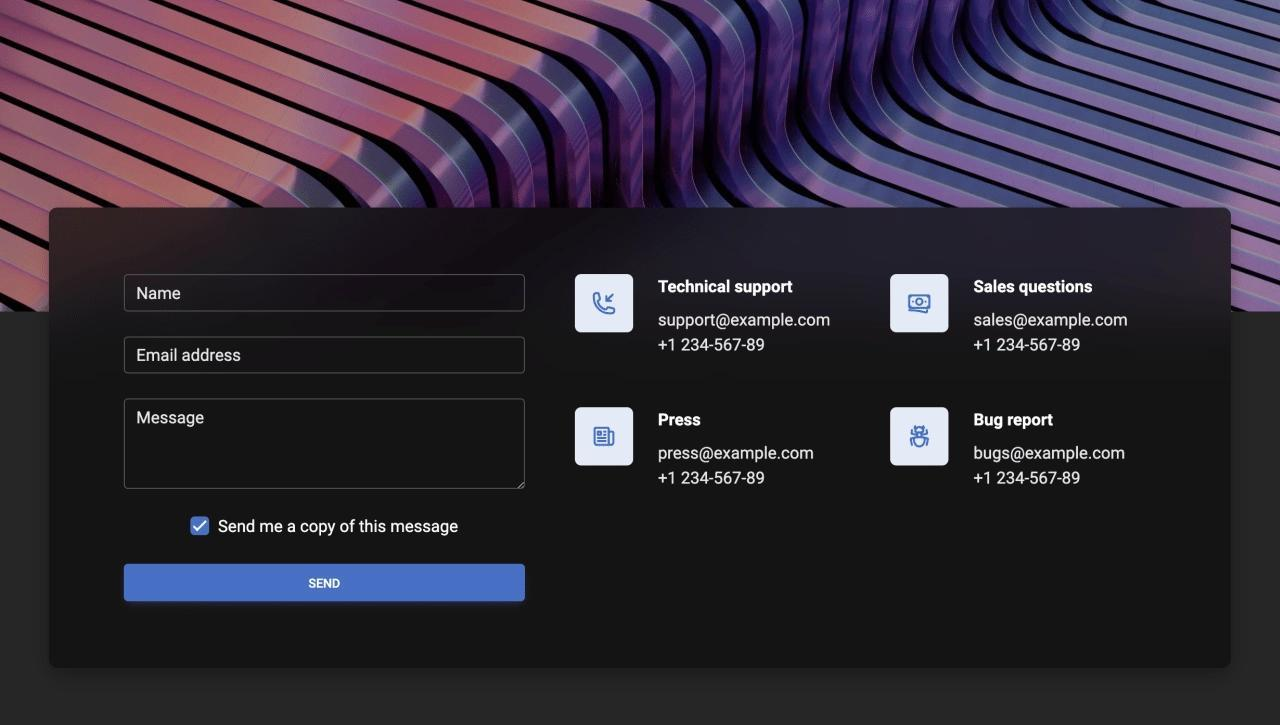button: (124, 566, 526, 605)
checkbox: (191, 517, 211, 538)
icon: (588, 290, 622, 318), (907, 288, 935, 320), (909, 423, 936, 453), (590, 425, 621, 451)
input: (125, 273, 527, 312), (124, 337, 526, 374)
label: (967, 445, 1133, 495), (655, 315, 834, 360), (972, 312, 1135, 361), (654, 445, 819, 491), (219, 517, 466, 539), (655, 272, 800, 298), (969, 406, 1065, 436), (969, 281, 1104, 300), (654, 413, 707, 435)
